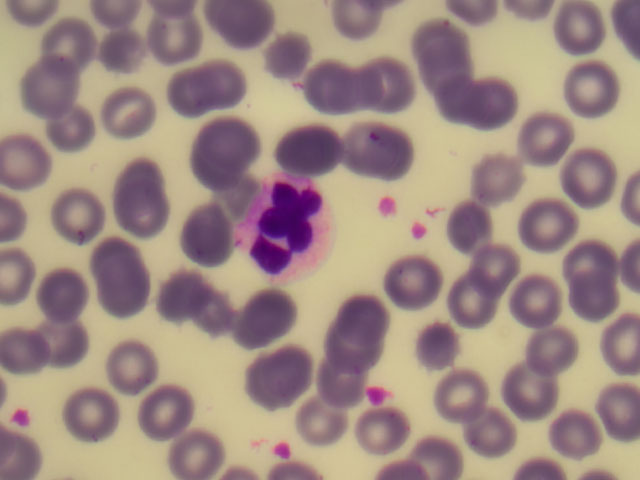Platelets: (365, 379, 393, 408), (270, 435, 296, 460), (407, 217, 432, 242), (377, 196, 398, 216), (12, 410, 31, 426)
RBC: (22, 55, 85, 116), (40, 13, 103, 74), (87, 16, 150, 77), (131, 9, 194, 70), (152, 60, 215, 121), (189, 54, 252, 115), (101, 83, 164, 144), (44, 101, 107, 162), (2, 131, 65, 192), (43, 185, 106, 246), (114, 143, 177, 204), (109, 193, 172, 254), (95, 260, 158, 321), (89, 223, 152, 284), (40, 256, 103, 317), (40, 310, 103, 371), (5, 326, 68, 387), (67, 383, 130, 444), (92, 333, 155, 394), (139, 376, 202, 437), (161, 419, 224, 480), (247, 349, 310, 410), (232, 290, 295, 351), (191, 289, 254, 350), (156, 265, 219, 326), (172, 209, 235, 270), (188, 170, 251, 231), (193, 115, 256, 176), (277, 117, 340, 178), (349, 114, 412, 175), (302, 57, 365, 118), (359, 54, 422, 115), (261, 29, 324, 90), (411, 15, 474, 76), (427, 51, 490, 112), (465, 67, 528, 128), (522, 106, 585, 167), (556, 58, 619, 119), (547, 3, 610, 64), (561, 147, 624, 208), (468, 150, 531, 211), (441, 196, 504, 257), (475, 240, 538, 301), (440, 270, 503, 331), (385, 257, 448, 318), (338, 283, 401, 344), (314, 328, 377, 389), (305, 354, 368, 415), (302, 400, 365, 461), (347, 406, 410, 467), (394, 419, 457, 480), (435, 361, 498, 422), (405, 323, 468, 384), (461, 397, 524, 458), (499, 360, 562, 421), (519, 318, 582, 379), (563, 270, 626, 331), (563, 235, 626, 296), (510, 265, 573, 326), (518, 196, 581, 257), (549, 402, 612, 463)
WBC: (231, 173, 340, 280)
